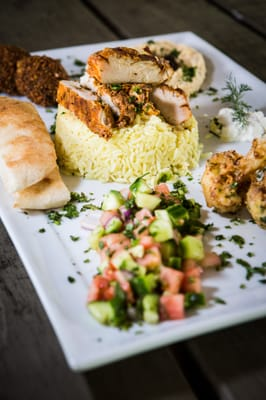soup: (0, 93, 71, 213)
